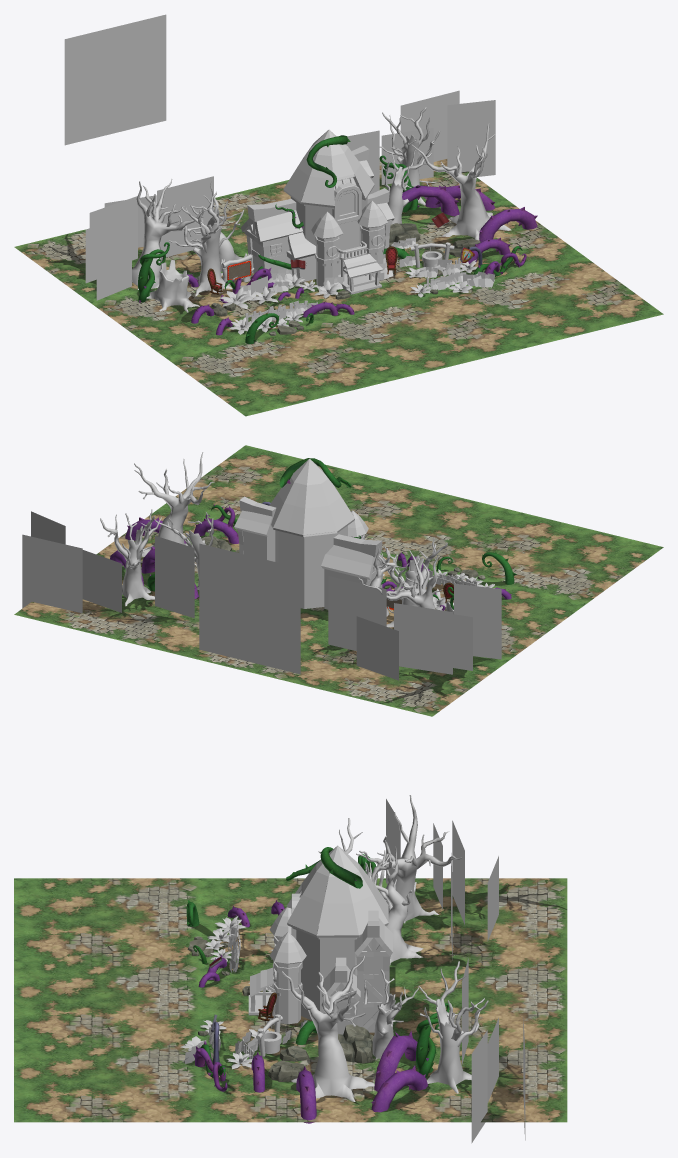
The model's file is Ambient_GhostForst.fbx.
The picture shows the model from 3 angles, top to bottom: view 1: azimuth 30°, elevation 25°; view 2: azimuth 150°, elevation 25°; view 3: azimuth 270°, elevation 25°; orthographic projection. The views are drawn at different scales.
Visible parts, largest first — view 1: pPlane2, transform25, pPlane32, pPlane33, pPlane28, pPlane36, polySurface2301, polySurface2288, polySurface2476, pPlane26, polySurface2457, polySurface2278 (+11 smaller); view 2: pPlane2, transform25, pPlane32, pPlane26, pPlane27, pPlane28, pPlane40, pPlane36, pPlane39, pPlane31, polySurface2457, polySurface2301 (+9 smaller); view 3: pPlane2, transform25, polySurface2301, polySurface2457, polySurface2476, polySurface2279, pPlane33, polySurface2482, polySurface2449, polySurface2469, polySurface564, polySurface2477 (+8 smaller).
Boxes of the visible parts, left/top/right/bottom form: pPlane2: left=14, top=159, right=663, bottom=416; transform25: left=241, top=129, right=394, bottom=294; pPlane32: left=64, top=14, right=166, bottom=145; pPlane33: left=447, top=100, right=495, bottom=176; pPlane28: left=157, top=176, right=213, bottom=257; pPlane36: left=96, top=216, right=131, bottom=300; polySurface2301: left=411, top=123, right=511, bottom=240; polySurface2288: left=169, top=191, right=244, bottom=296; polySurface2476: left=131, top=179, right=210, bottom=289; pPlane26: left=400, top=90, right=459, bottom=161; polySurface2457: left=379, top=107, right=439, bottom=205; polySurface2278: left=146, top=260, right=199, bottom=312; pPlane2: left=14, top=445, right=663, bottom=716; transform25: left=234, top=458, right=385, bottom=609; pPlane32: left=199, top=543, right=300, bottom=674; pPlane26: left=22, top=534, right=82, bottom=613; pPlane27: left=394, top=603, right=452, bottom=674; pPlane28: left=328, top=576, right=386, bottom=650; pPlane40: left=155, top=536, right=194, bottom=618; pPlane36: left=454, top=583, right=501, bottom=659; pPlane39: left=356, top=616, right=398, bottom=680; pPlane31: left=82, top=550, right=121, bottom=612; polySurface2457: left=100, top=509, right=161, bottom=606; polySurface2301: left=134, top=452, right=214, bottom=565; pPlane2: left=14, top=878, right=567, bottom=1122; transform25: left=248, top=845, right=392, bottom=1034; polySurface2301: left=282, top=955, right=374, bottom=1101; polySurface2457: left=418, top=961, right=488, bottom=1093; polySurface2476: left=356, top=795, right=461, bottom=923; polySurface2279: left=365, top=846, right=423, bottom=964; pPlane33: left=471, top=1030, right=487, bottom=1143; polySurface2482: left=349, top=969, right=418, bottom=1059; polySurface2449: left=374, top=1031, right=417, bottom=1091; polySurface2469: left=371, top=1065, right=427, bottom=1112; polySurface564: left=338, top=1024, right=373, bottom=1063; polySurface2477: left=416, top=1003, right=449, bottom=1077.
Size of the model in its own units: 1596 by 605 by 1703.
